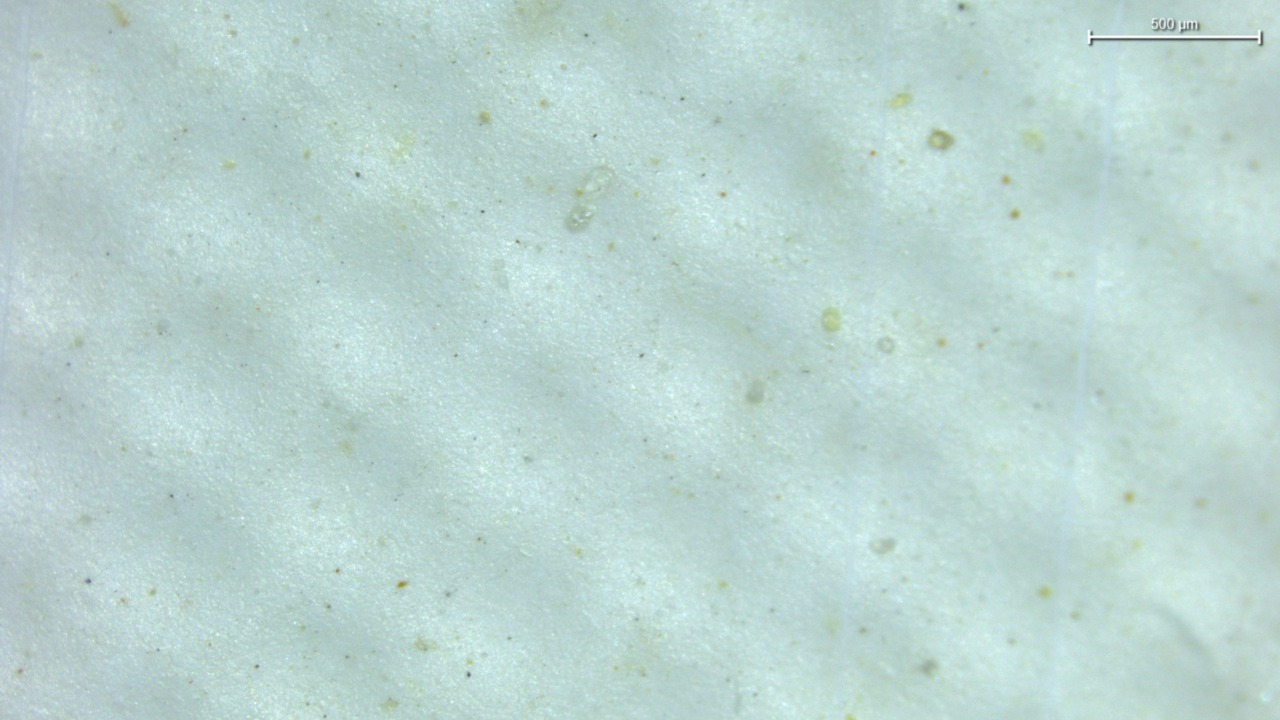microplastic_fragment: (566, 204, 594, 230)
